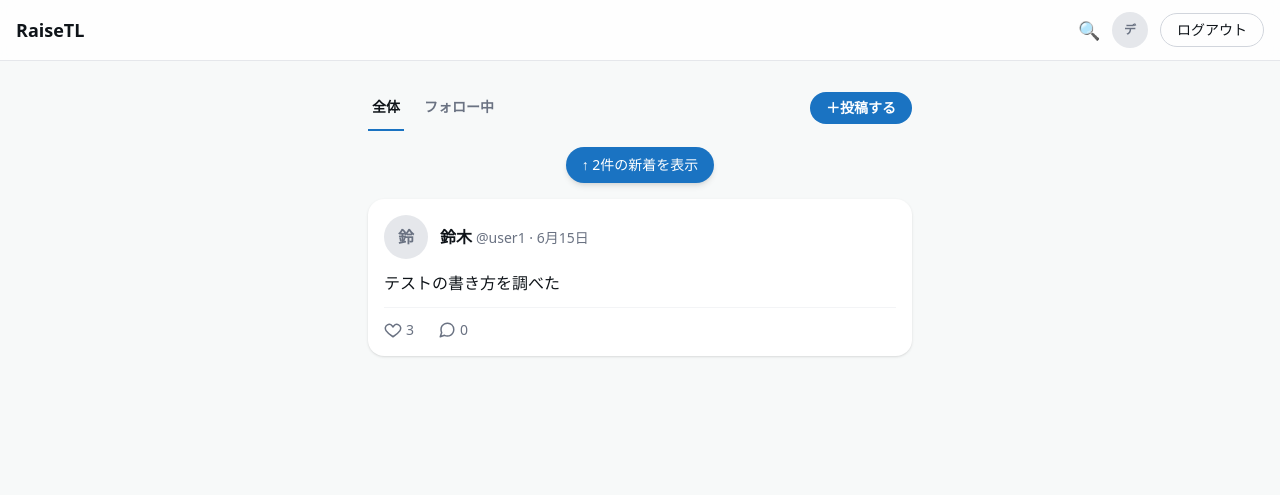
it: TimelinePage — 失敗したあとに操作をやり直したとき › 新着の読み込みをやり直して成功すると、前のエラーメッセージが消える
expect the button "3" is shown: met, box [384,320,414,340]
Click the button "↑ 2件の新着を表示".
click(640, 165)  # box [566,147,714,183]
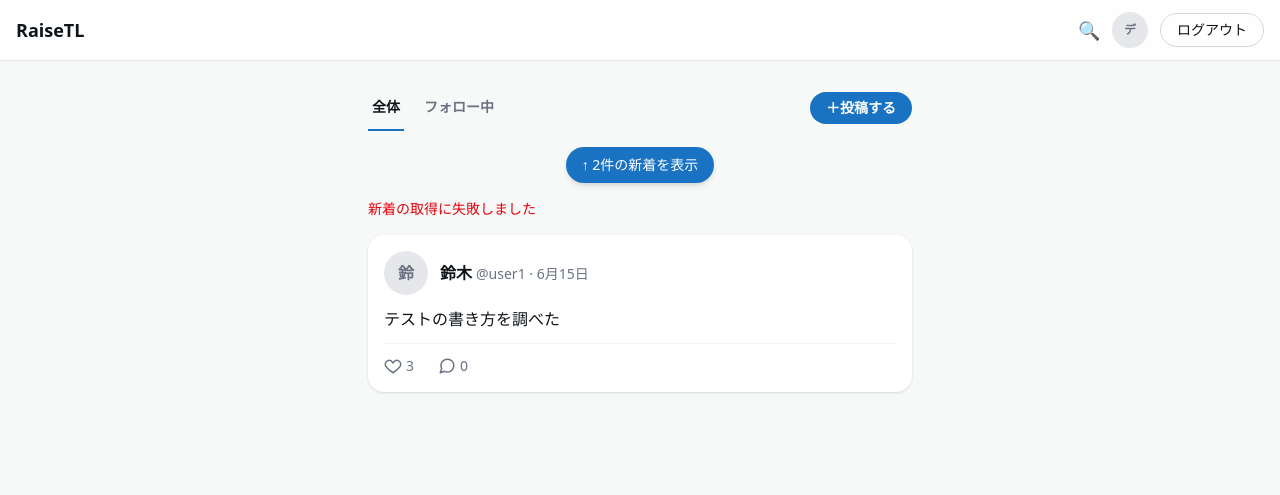
expect the text "新着の取得に失敗しました" is shown: met, box [368,199,536,218]
Click the button "↑ 2件の新着を表示".
click(640, 165)  # box [566,147,714,183]
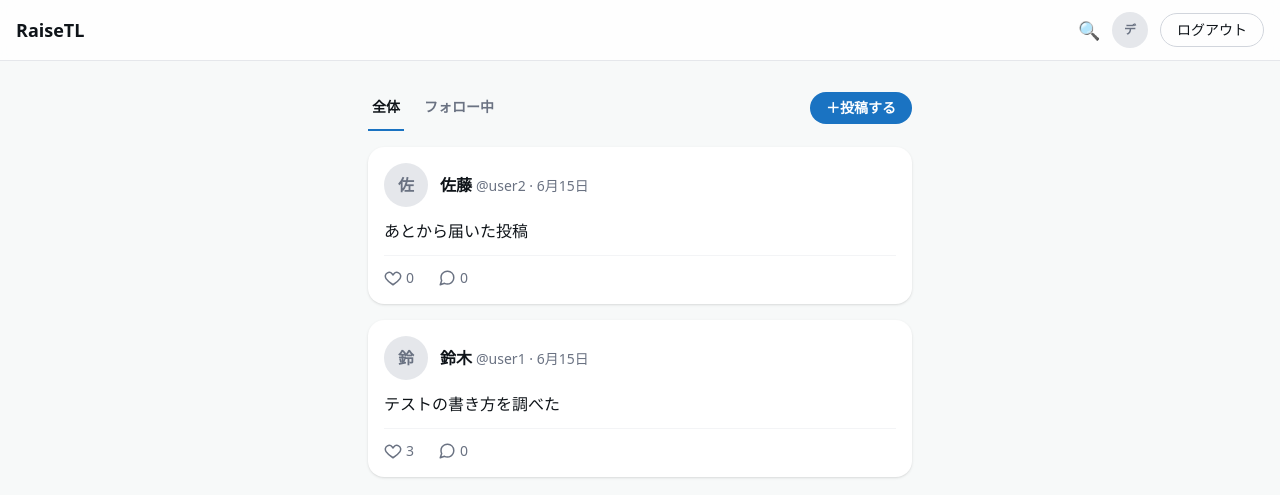
expect the text "あとから届いた投稿" is shown: met, box [384,220,528,242]
expect the text "新着の取得に失敗しました" is gone: met
